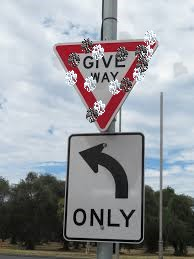giveway: (48, 36, 159, 130), (95, 40, 152, 112), (67, 70, 142, 118), (57, 41, 103, 119), (87, 40, 128, 122)
